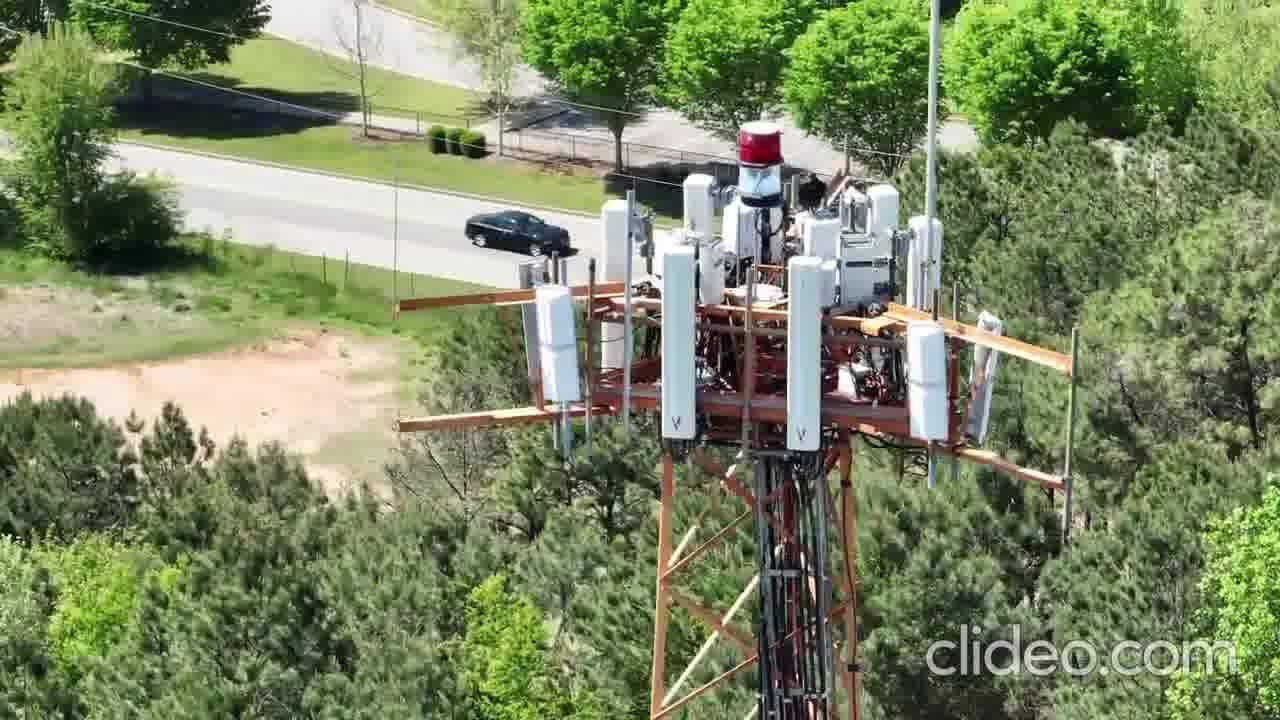antenna: (761, 244, 829, 477), (639, 241, 705, 463), (880, 312, 952, 452), (585, 189, 639, 375), (527, 285, 590, 419), (965, 301, 1004, 446), (669, 173, 719, 242)
